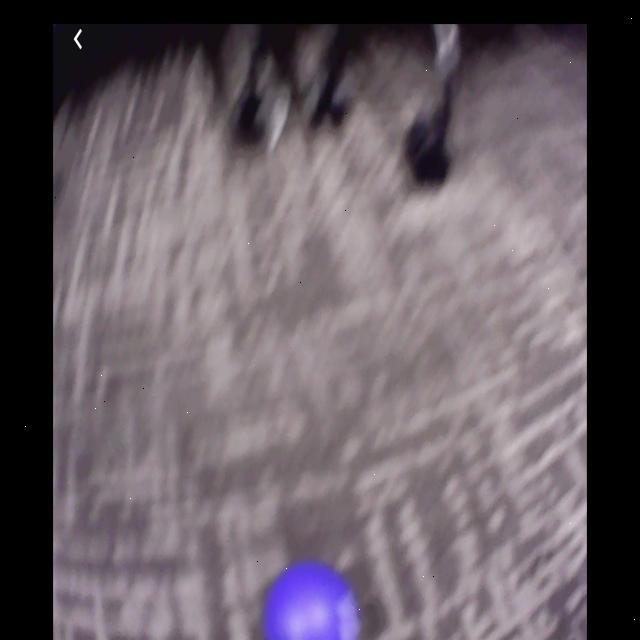ball: (265, 561, 362, 640)
